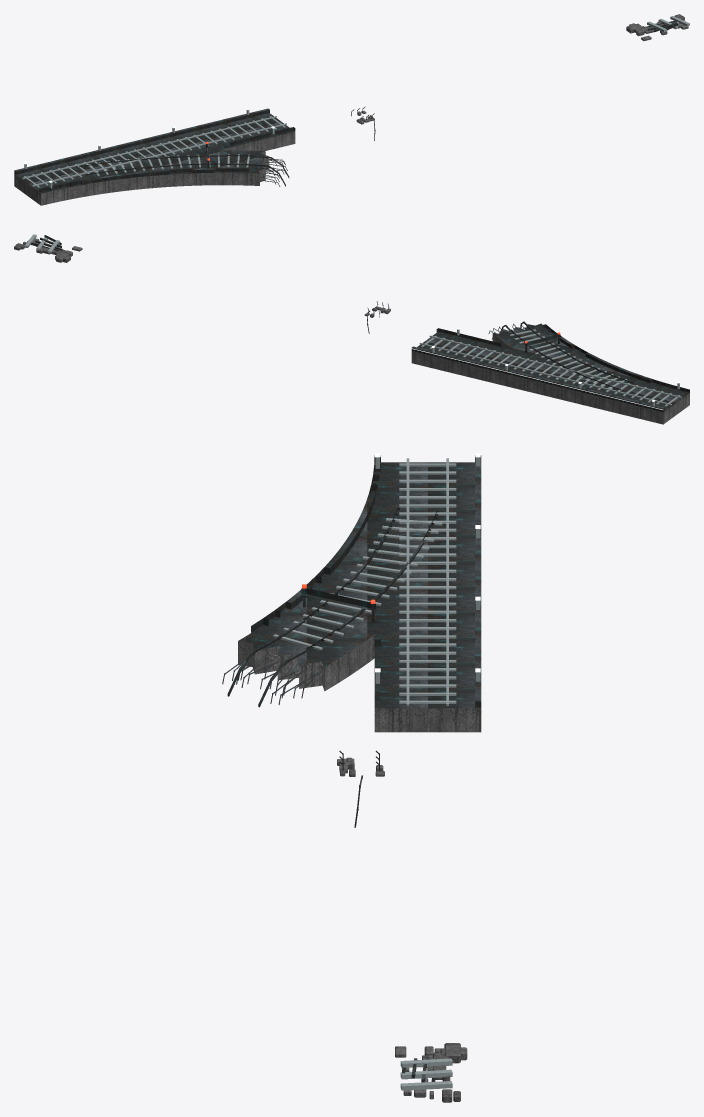
Rendered from rail-ruins.glb.
The picture shows the model from 3 angles, top to bottom: view 1: azimuth 30°, elevation 25°; view 2: azimuth 150°, elevation 25°; view 3: azimuth 270°, elevation 25°; orthographic projection. The views are drawn at different scales.
Visible parts, largest first — view 1: RailJunction_Asphalt, RailJunction_Concrete, RailJunction_Steel, RailJunction_Alloy, RailJunction_Rust, RailCrashDebris_Concrete; view 2: RailJunction_Asphalt, RailJunction_Concrete, RailJunction_Alloy, RailJunction_Steel, RailJunction_Rust, RailCrashDebris_Concrete, RailJunction_Amber; view 3: RailJunction_Asphalt, RailJunction_Alloy, RailJunction_Concrete, RailJunction_Steel, RailJunction_Rust, RailCrashDebris_Concrete, RailCrashDebris_Alloy.
Part boxes in pixels (left/top/right/bottom): RailJunction_Asphalt: left=16, top=113, right=294, bottom=193; RailJunction_Concrete: left=14, top=132, right=295, bottom=205; RailJunction_Steel: left=14, top=108, right=295, bottom=193; RailJunction_Alloy: left=22, top=110, right=286, bottom=188; RailJunction_Rust: left=79, top=145, right=289, bottom=186; RailCrashDebris_Concrete: left=626, top=14, right=688, bottom=40; RailJunction_Asphalt: left=412, top=323, right=689, bottom=412; RailJunction_Concrete: left=411, top=333, right=689, bottom=424; RailJunction_Alloy: left=419, top=329, right=681, bottom=406; RailJunction_Steel: left=411, top=324, right=689, bottom=412; RailJunction_Rust: left=488, top=321, right=633, bottom=390; RailCrashDebris_Concrete: left=14, top=238, right=82, bottom=262; RailJunction_Amber: left=411, top=327, right=680, bottom=409; RailJunction_Asphalt: left=238, top=462, right=480, bottom=708; RailJunction_Alloy: left=273, top=457, right=480, bottom=705; RailJunction_Concrete: left=238, top=634, right=481, bottom=732; RailJunction_Steel: left=251, top=455, right=481, bottom=707; RailJunction_Rust: left=222, top=508, right=439, bottom=707; RailCrashDebris_Concrete: left=395, top=1043, right=467, bottom=1102; RailCrashDebris_Alloy: left=400, top=1058, right=452, bottom=1090.
Size of the model in its own units: 62.44 by 3.17 by 10.72.
7 materials, 4 textured.
